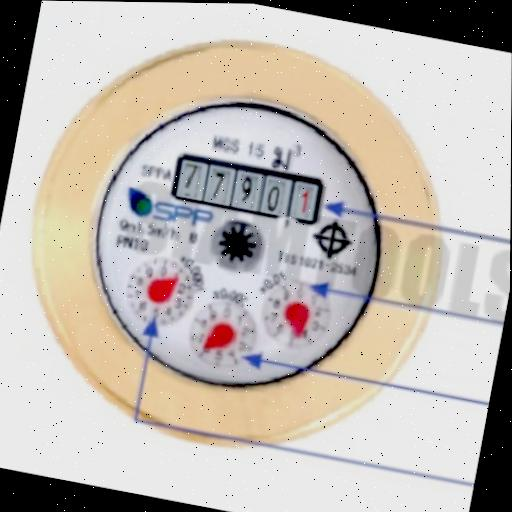0: (264, 180, 285, 215)
1: (294, 186, 315, 219)
7: (179, 164, 201, 199), (207, 169, 228, 204)
9: (235, 174, 258, 208)
border_water_meter_number: (169, 151, 326, 227)
